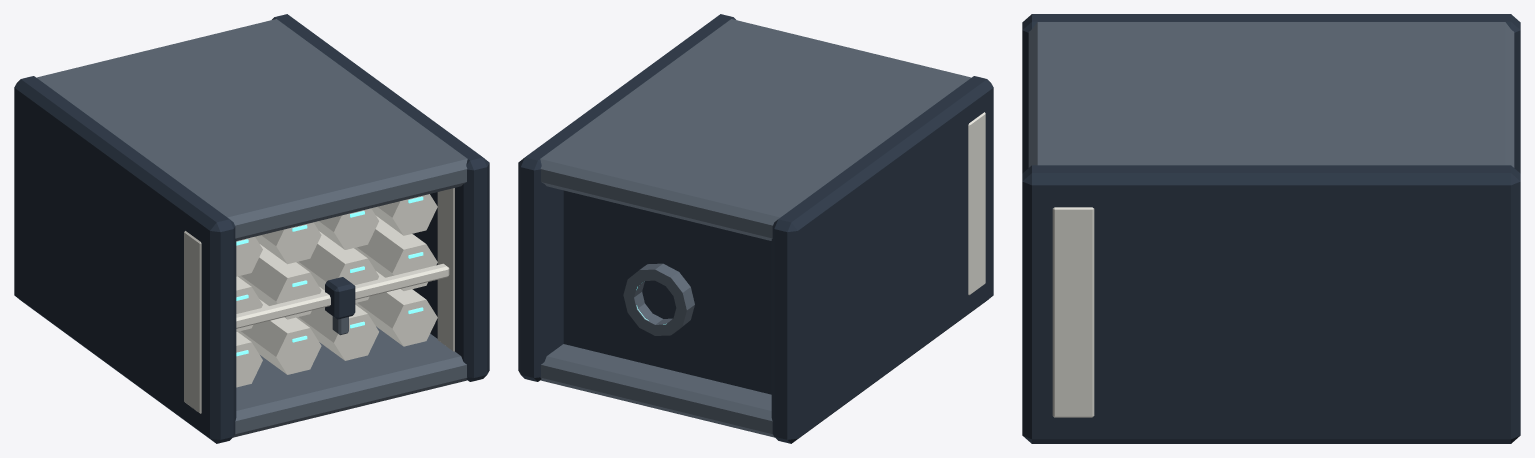
Rendered from filesystem_bay.glb.
3 views of the same model, side by side, from view 1: azimuth 30°, elevation 25°; view 2: azimuth 150°, elevation 25°; view 3: azimuth 270°, elevation 25° (orthographic). The views are drawn at different scales.
Parts seen in each view (by area): view 1: filesystem_bay__shelf__02, filesystem_bay__side_frame, filesystem_bay__shelf, filesystem_bay__side_frame__02, filesystem_bay__side_armor, filesystem_bay__storage_cell_02, filesystem_bay__storage_cell_04, filesystem_bay__gantry, filesystem_bay__storage_cell_06, filesystem_bay__storage_cell_08, filesystem_bay__side_armor__02, filesystem_bay__storage_cell_03 (+8 smaller); view 2: filesystem_bay__shelf__02, filesystem_bay__side_frame, filesystem_bay__backplane, filesystem_bay__side_frame__02, filesystem_bay__shelf, filesystem_bay__side_armor, filesystem_bay__primary_DCI-M_frame; view 3: filesystem_bay__side_frame__02, filesystem_bay__shelf__02, filesystem_bay__side_armor__02, filesystem_bay__side_frame.
Part boxes in pixels (x1,y1,x2,y2): filesystem_bay__shelf__02: (36, 19, 467, 240); filesystem_bay__side_frame: (14, 76, 236, 443); filesystem_bay__shelf: (233, 326, 467, 437); filesystem_bay__side_frame__02: (272, 14, 489, 381); filesystem_bay__side_armor: (184, 231, 201, 413); filesystem_bay__storage_cell_02: (238, 299, 321, 374); filesystem_bay__storage_cell_04: (355, 271, 437, 346); filesystem_bay__gantry: (236, 263, 449, 328); filesystem_bay__storage_cell_06: (238, 244, 321, 319); filesystem_bay__storage_cell_08: (354, 216, 437, 290); filesystem_bay__side_armor__02: (437, 188, 454, 351); filesystem_bay__storage_cell_03: (296, 287, 378, 360); filesystem_bay__shelf__02: (540, 19, 971, 240); filesystem_bay__side_frame: (771, 76, 993, 443); filesystem_bay__backplane: (563, 190, 771, 394); filesystem_bay__side_frame__02: (518, 14, 735, 381); filesystem_bay__shelf: (540, 344, 774, 437); filesystem_bay__side_armor: (968, 112, 985, 295); filesystem_bay__primary_DCI-M_frame: (623, 263, 694, 335); filesystem_bay__side_frame__02: (1022, 165, 1520, 443); filesystem_bay__shelf__02: (1028, 22, 1514, 167); filesystem_bay__side_armor__02: (1052, 207, 1094, 417); filesystem_bay__side_frame: (1022, 14, 1520, 173).
Size of the model in its own units: 3.2 by 2.4 by 4.
